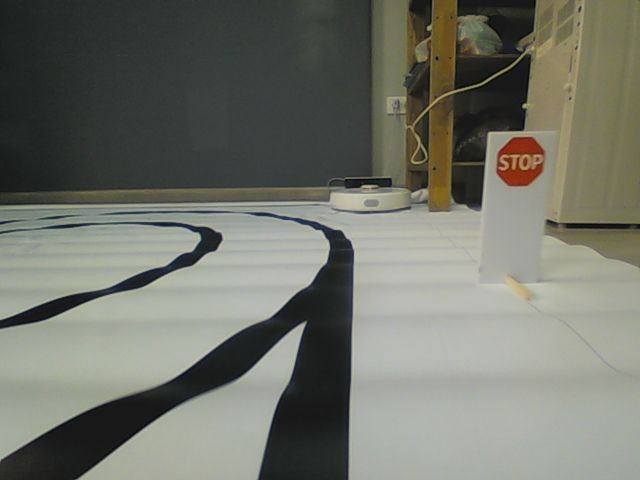Stop: (496, 136, 546, 187)
